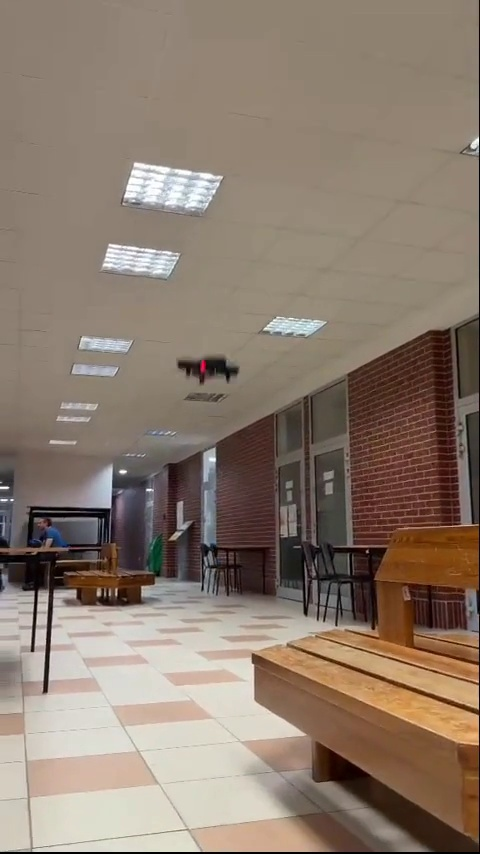drone: (174, 354, 245, 388)
no vest: (32, 512, 71, 575)
